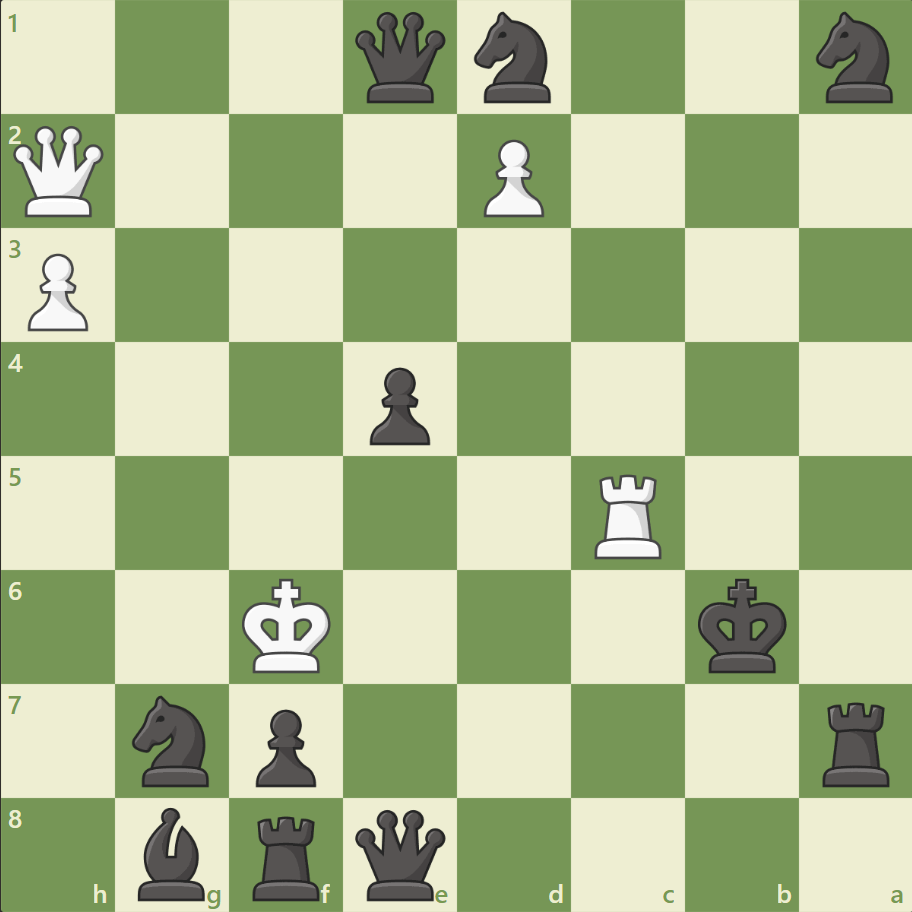K: (238, 571, 338, 679)
P: (20, 246, 95, 337), (474, 132, 549, 223)
Q: (10, 122, 109, 222)
R: (587, 466, 670, 563)
b: (131, 801, 215, 904)
k: (692, 571, 792, 679)
n: (124, 688, 222, 791), (806, 7, 903, 110), (465, 7, 562, 110)
p: (247, 700, 322, 791), (361, 359, 435, 450)
q: (351, 804, 450, 903), (351, 9, 450, 108)
r: (246, 806, 329, 904), (814, 693, 897, 790)
